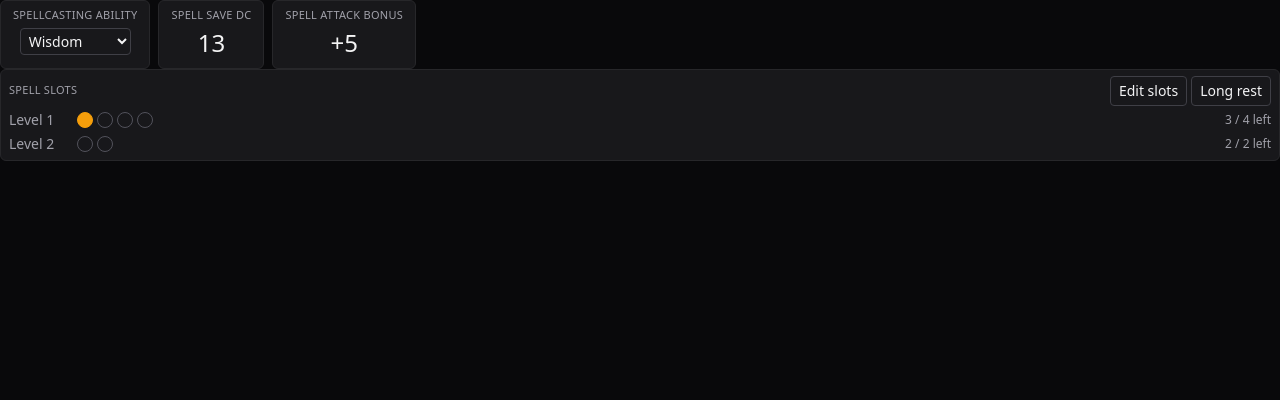
Test case: SlotTracker › hides levels without slots until edit mode
The width and height of the screenshot is (1280, 400).
Check: the element with test id "slots-1" is shown, box [9,110,1271,130]
Click the button "Edit slots" at (1149, 90), box [1110,76,1187,106]
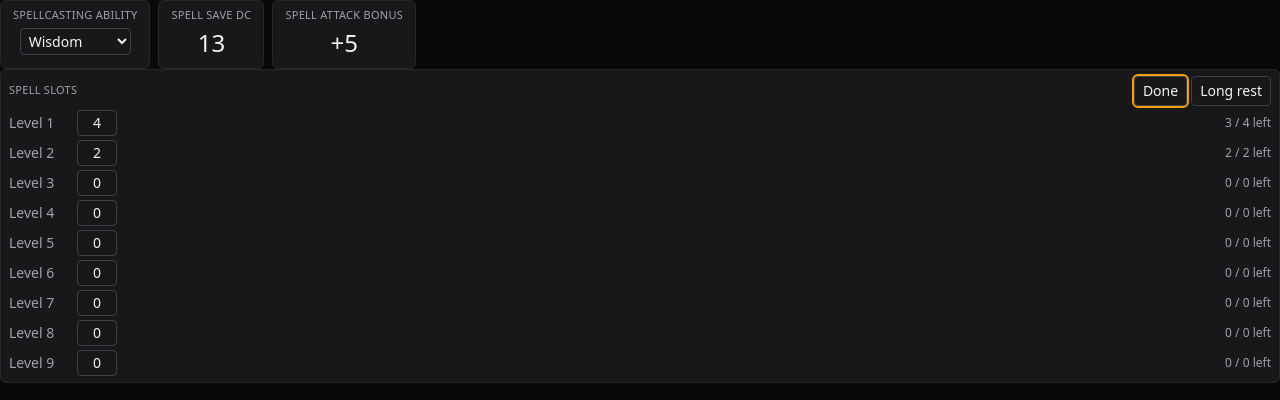
Check: the field named "Level 3 slots" is shown, box [77,170,117,196]
Check: the number of fields named "Level 1 slots" is 9
